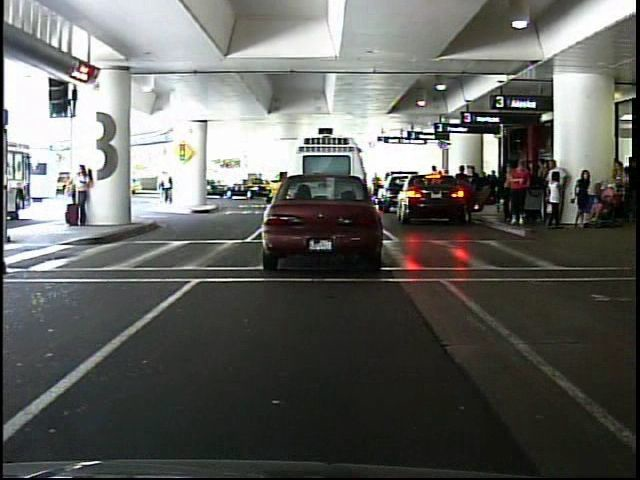person: (71, 161, 95, 229), (510, 157, 532, 228), (151, 162, 179, 206)
